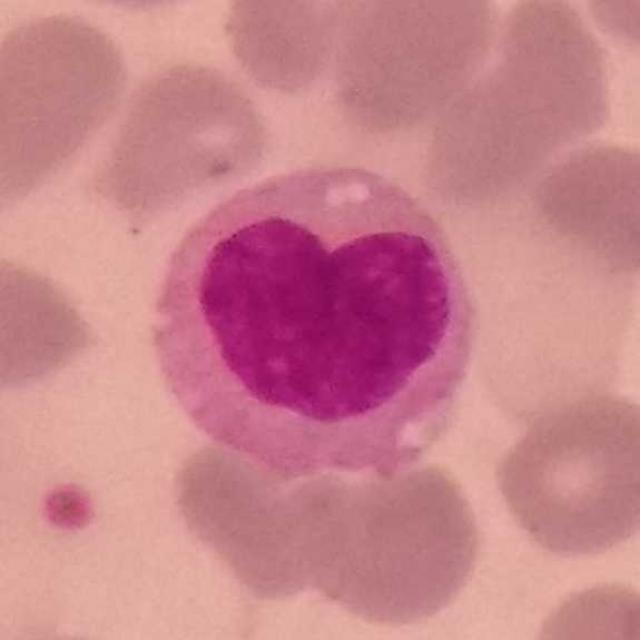Monocyte: (146, 156, 479, 483)
Platelets: (37, 478, 100, 536)
RBC: (279, 443, 489, 631), (164, 424, 370, 604), (445, 0, 622, 177), (92, 55, 278, 212), (487, 387, 640, 564), (0, 5, 132, 201), (320, 0, 503, 129), (518, 132, 640, 280), (0, 248, 99, 400), (216, 0, 349, 99), (518, 572, 640, 640), (575, 0, 640, 60)
